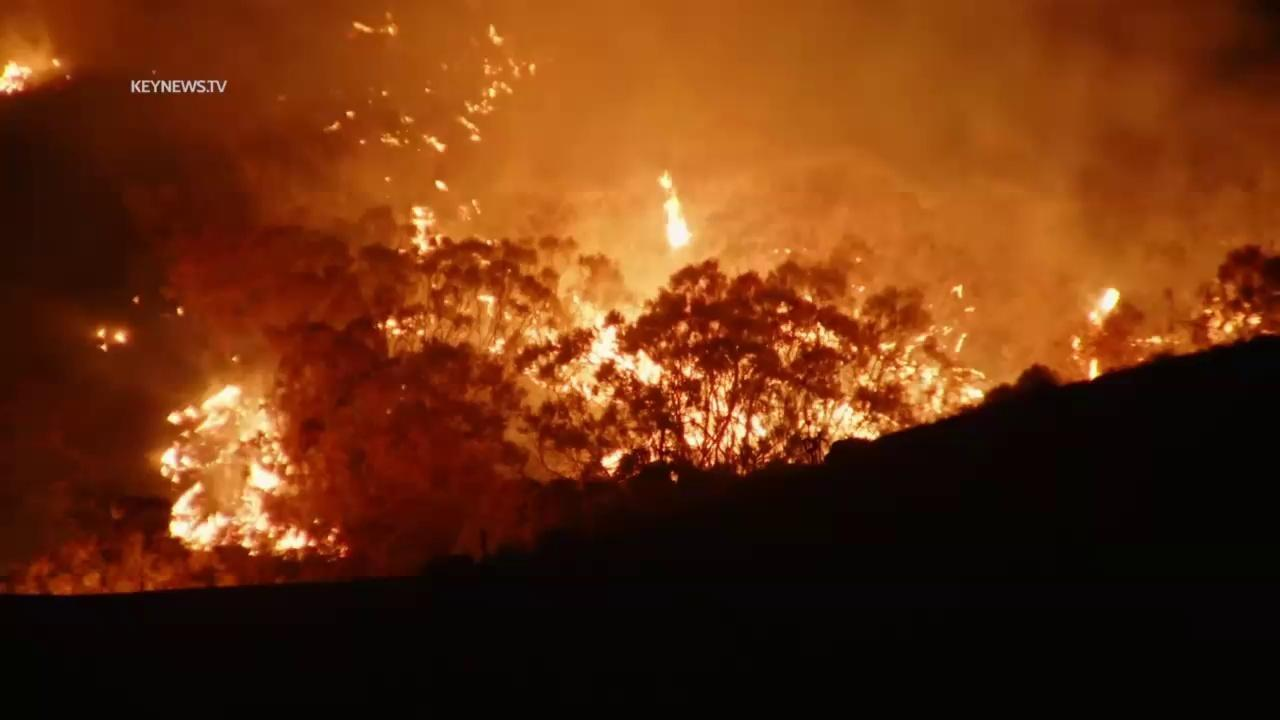fire: (524, 292, 989, 448), (157, 382, 351, 563), (1064, 282, 1123, 381), (656, 164, 696, 249), (1200, 296, 1264, 347), (408, 202, 448, 264), (459, 78, 514, 115), (0, 57, 37, 99), (600, 445, 633, 478), (93, 324, 130, 353), (351, 18, 400, 38), (459, 116, 483, 143), (1131, 334, 1180, 347), (478, 291, 497, 322), (487, 334, 509, 360), (421, 134, 448, 155), (486, 20, 505, 47), (380, 319, 405, 337), (950, 281, 966, 299), (321, 120, 342, 133), (434, 177, 450, 194), (471, 196, 482, 216), (50, 57, 65, 71), (962, 305, 979, 316), (415, 326, 427, 339), (502, 310, 514, 322), (344, 108, 356, 119)
smoke: (0, 0, 1280, 573)
